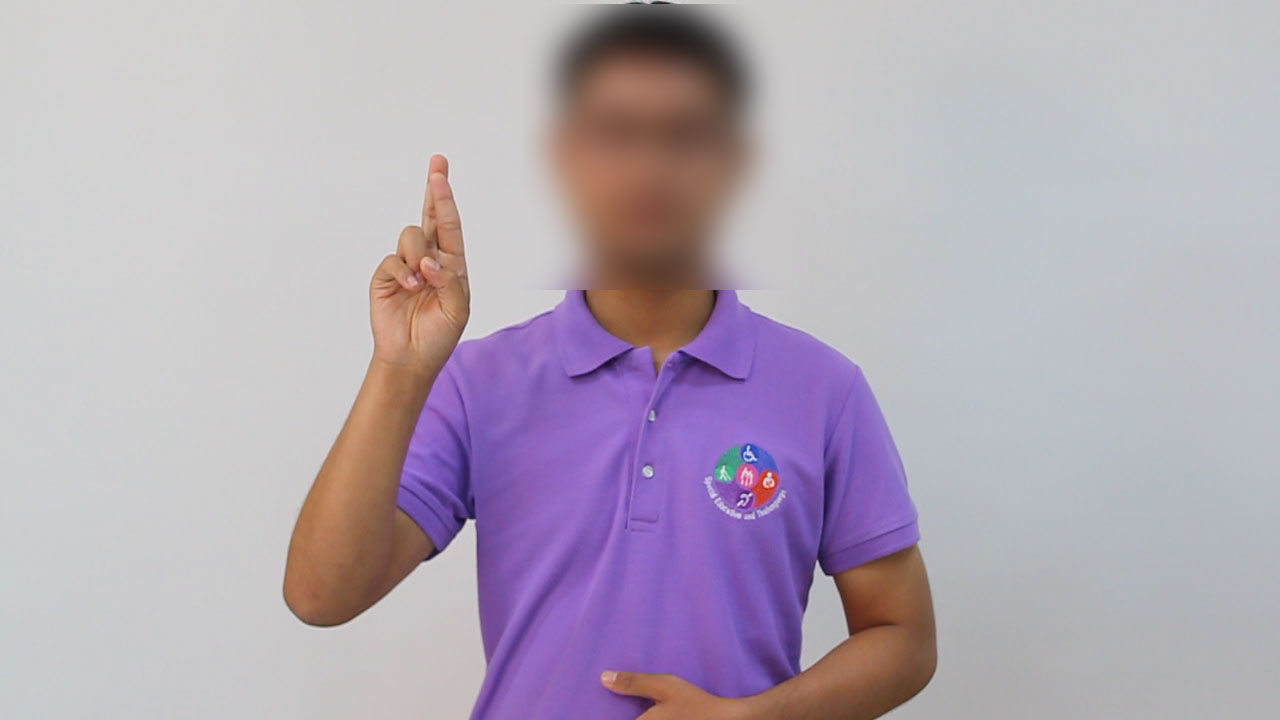rao: (343, 151, 470, 399)
